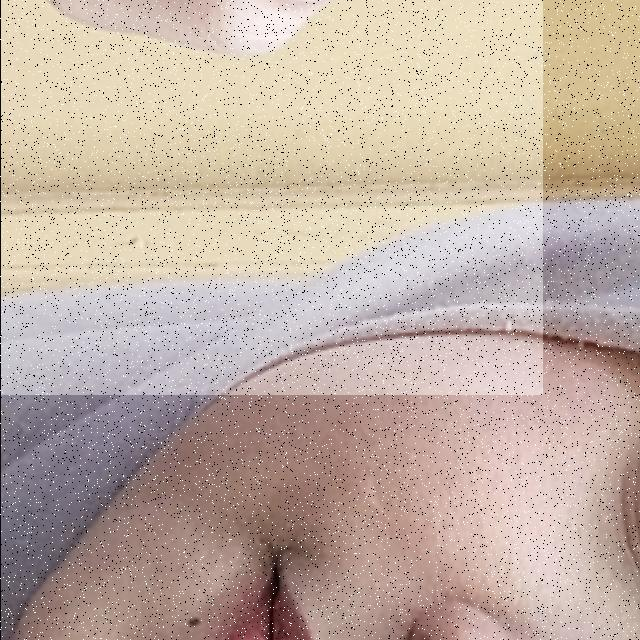baik: (0, 0, 542, 395)
